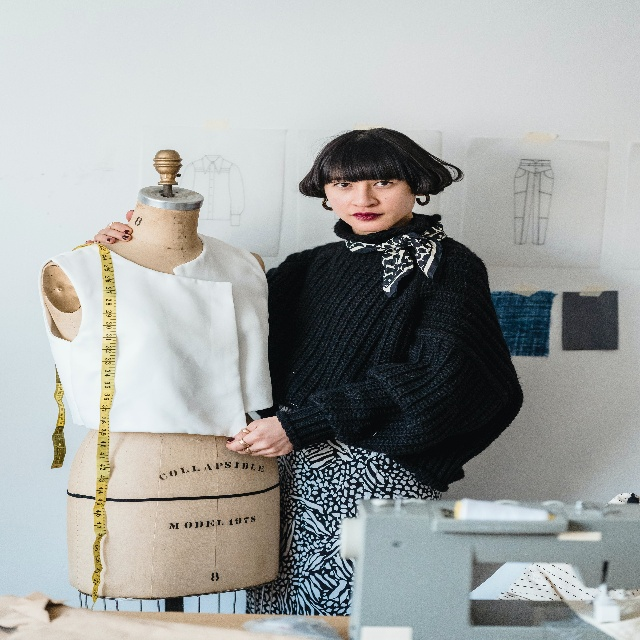Sin_guantes: (225, 422, 295, 464), (82, 203, 134, 248)
